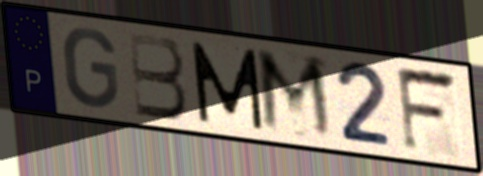2: (332, 58, 397, 154)
B: (125, 30, 191, 122)
F: (393, 64, 462, 157)
G: (61, 26, 122, 111)
M: (253, 45, 339, 145), (187, 38, 267, 133)
